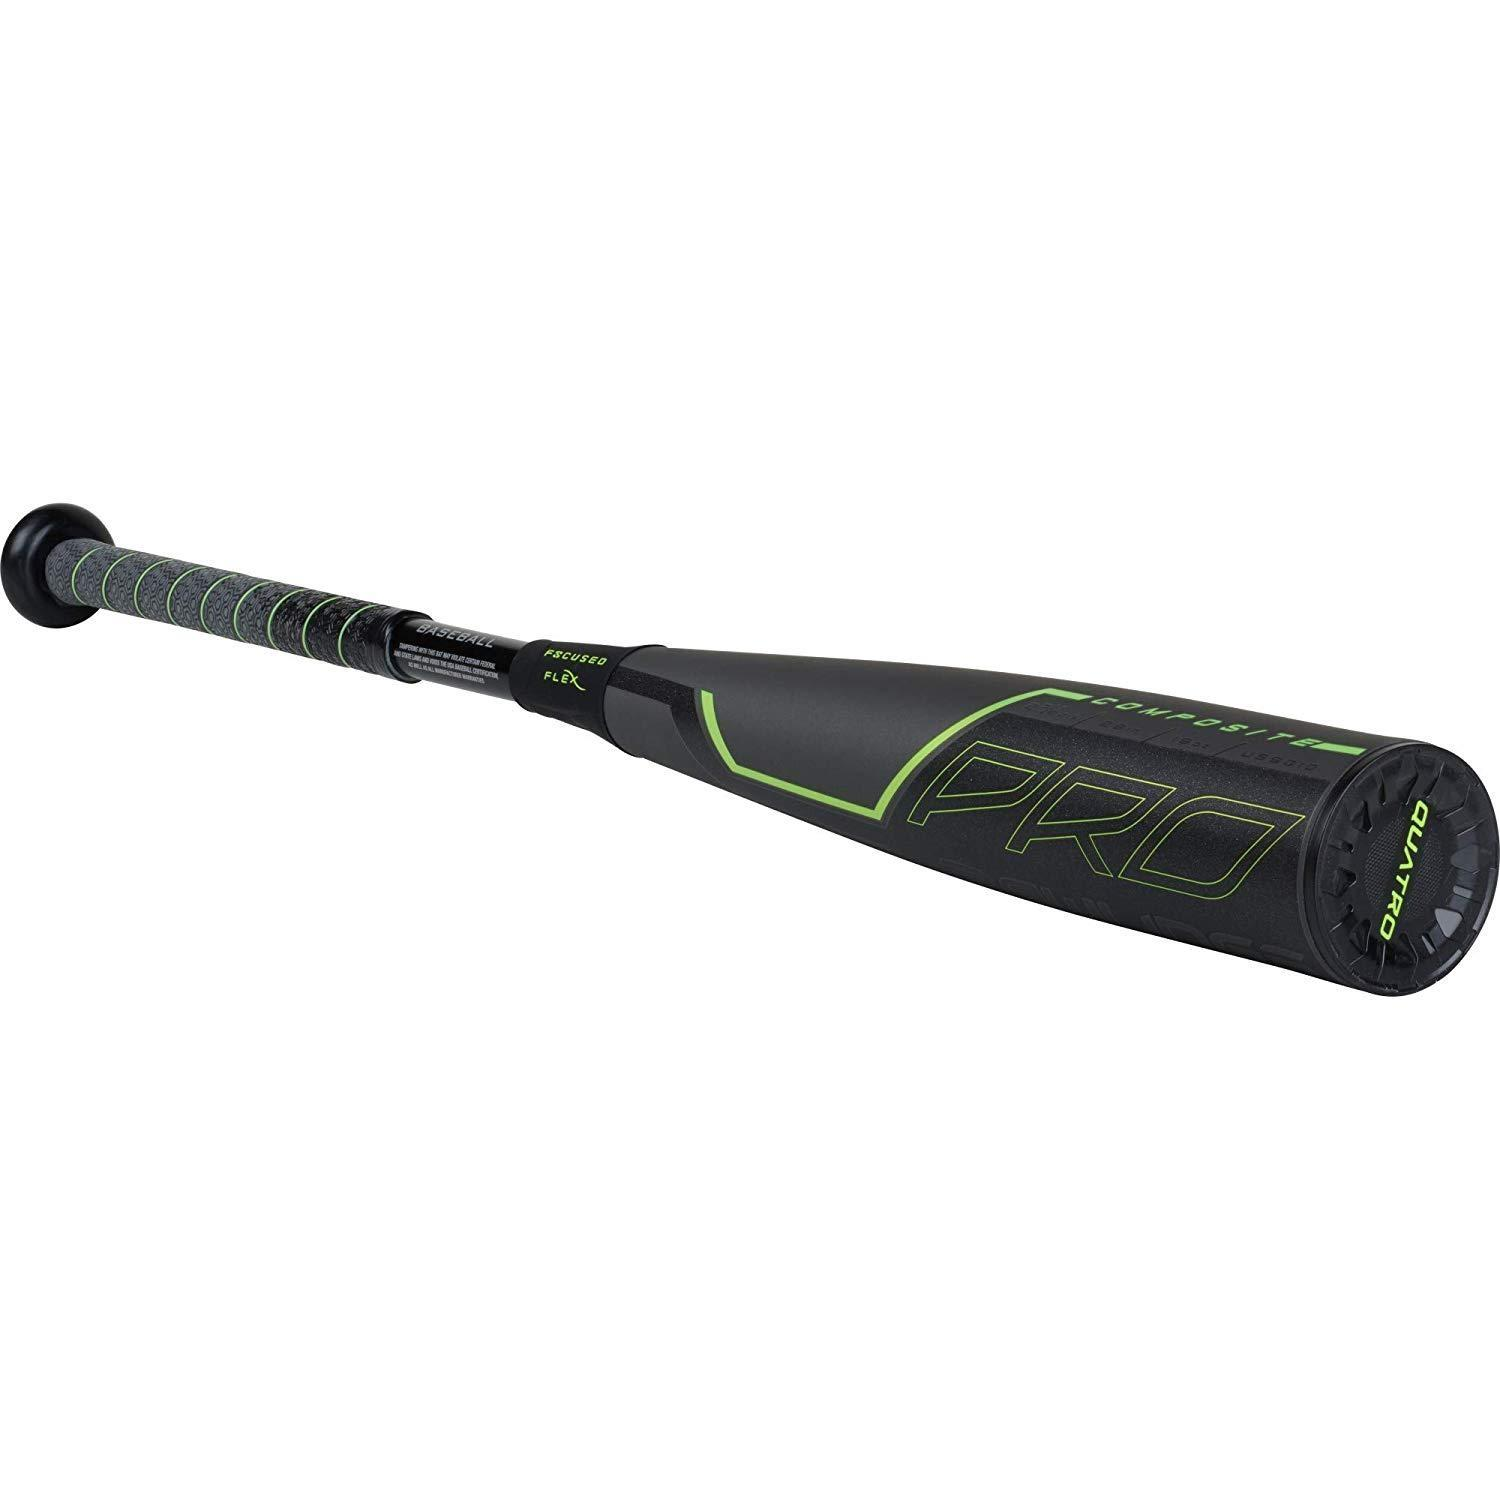Baseball-Bat: (0, 423, 1500, 1157)
